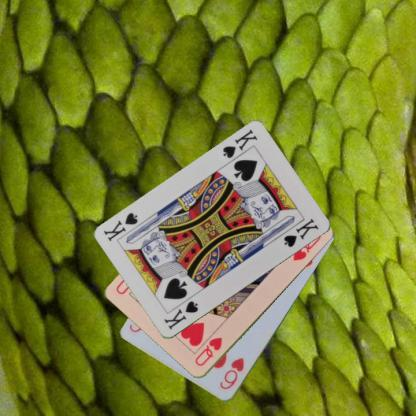6h: (217, 355, 246, 392)
Ks: (161, 298, 200, 332), (220, 127, 259, 160)
Qh: (192, 335, 224, 368)
